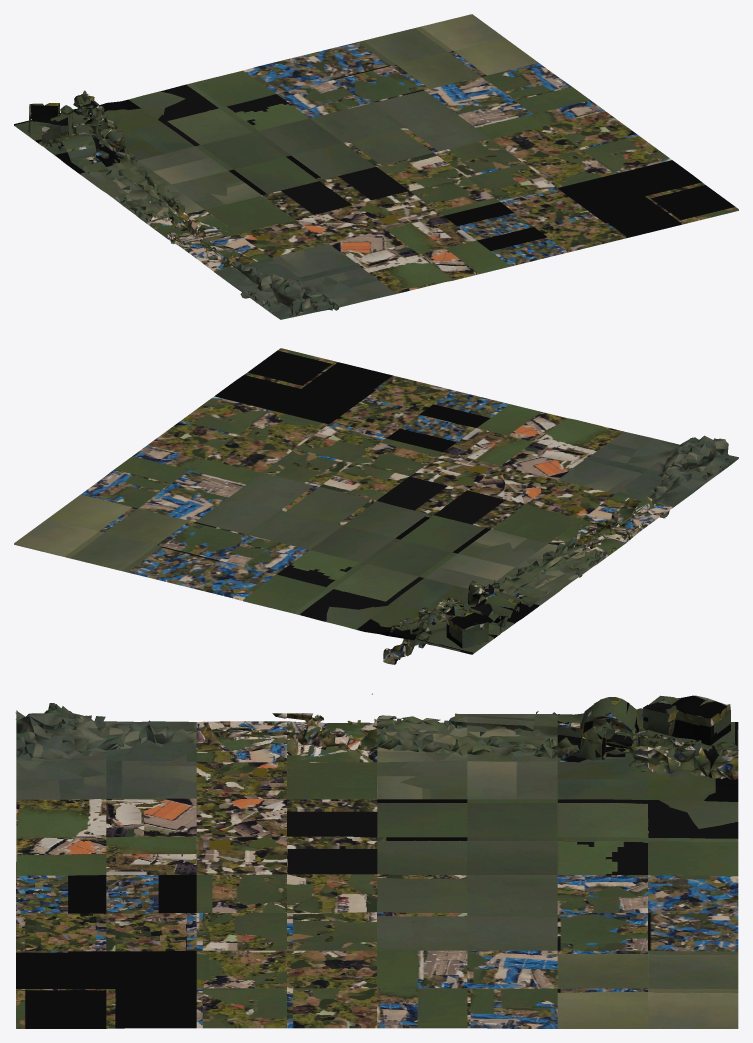
Rendered from ponte_limoeiro_noroeste.glb.
3 views of the same model, one above another, from view 1: azimuth 30°, elevation 25°; view 2: azimuth 150°, elevation 25°; view 3: azimuth 270°, elevation 25° (orthographic). The views are drawn at different scales.
Parts seen in each view (by area): view 1: ponte_limoeiro_noroeste; view 2: ponte_limoeiro_noroeste; view 3: ponte_limoeiro_noroeste.
Part boxes in pixels (left/top/right/bottom): ponte_limoeiro_noroeste: left=14, top=14, right=738, bottom=319; ponte_limoeiro_noroeste: left=14, top=348, right=738, bottom=664; ponte_limoeiro_noroeste: left=15, top=693, right=738, bottom=1028.
Size of the model in its own units: 306 by 33.81 by 309.
Materials: 1 (1 with a texture image).
